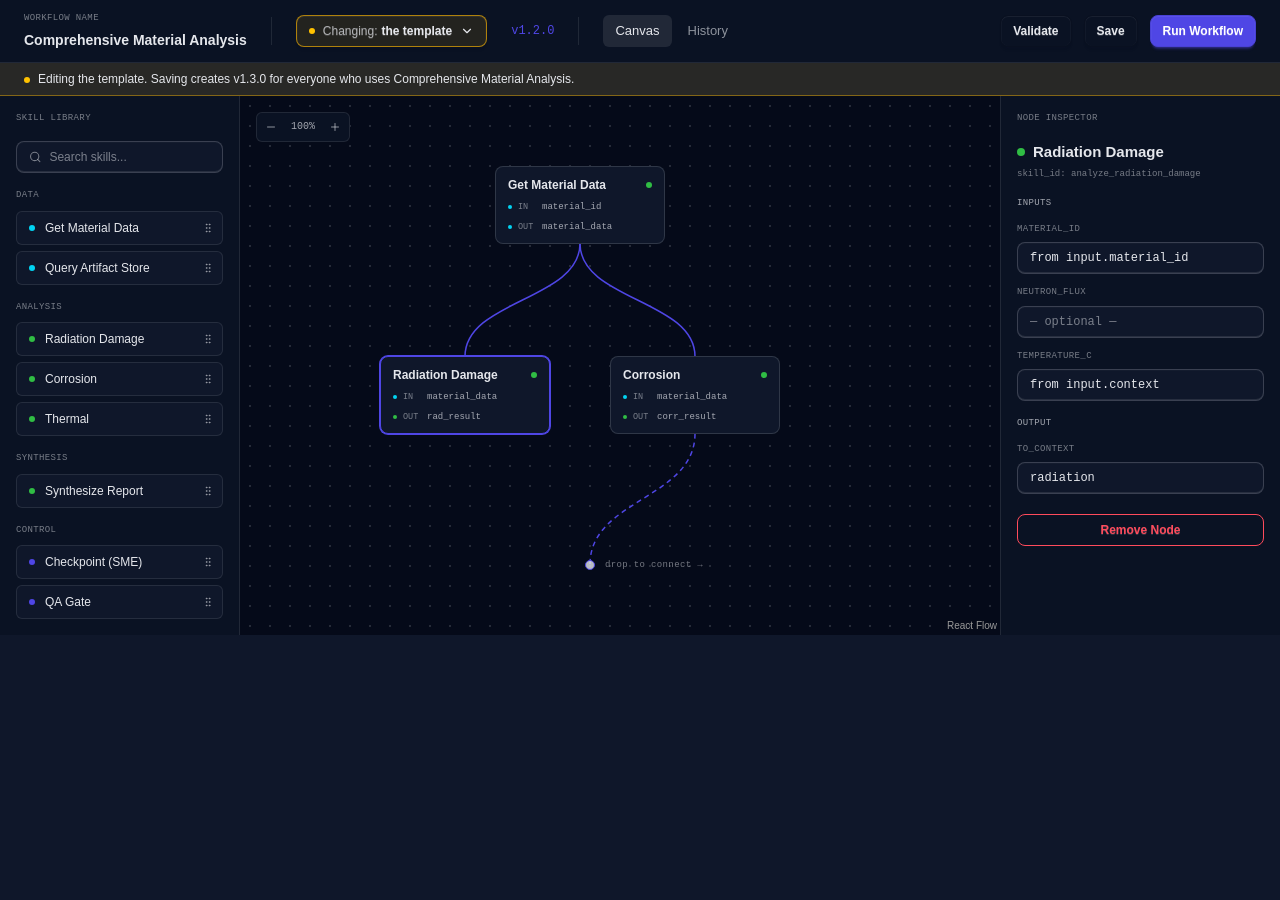
Save template first switches to this run
Click the button "Changing: the template": x=392, y=31 [296,15,487,47]
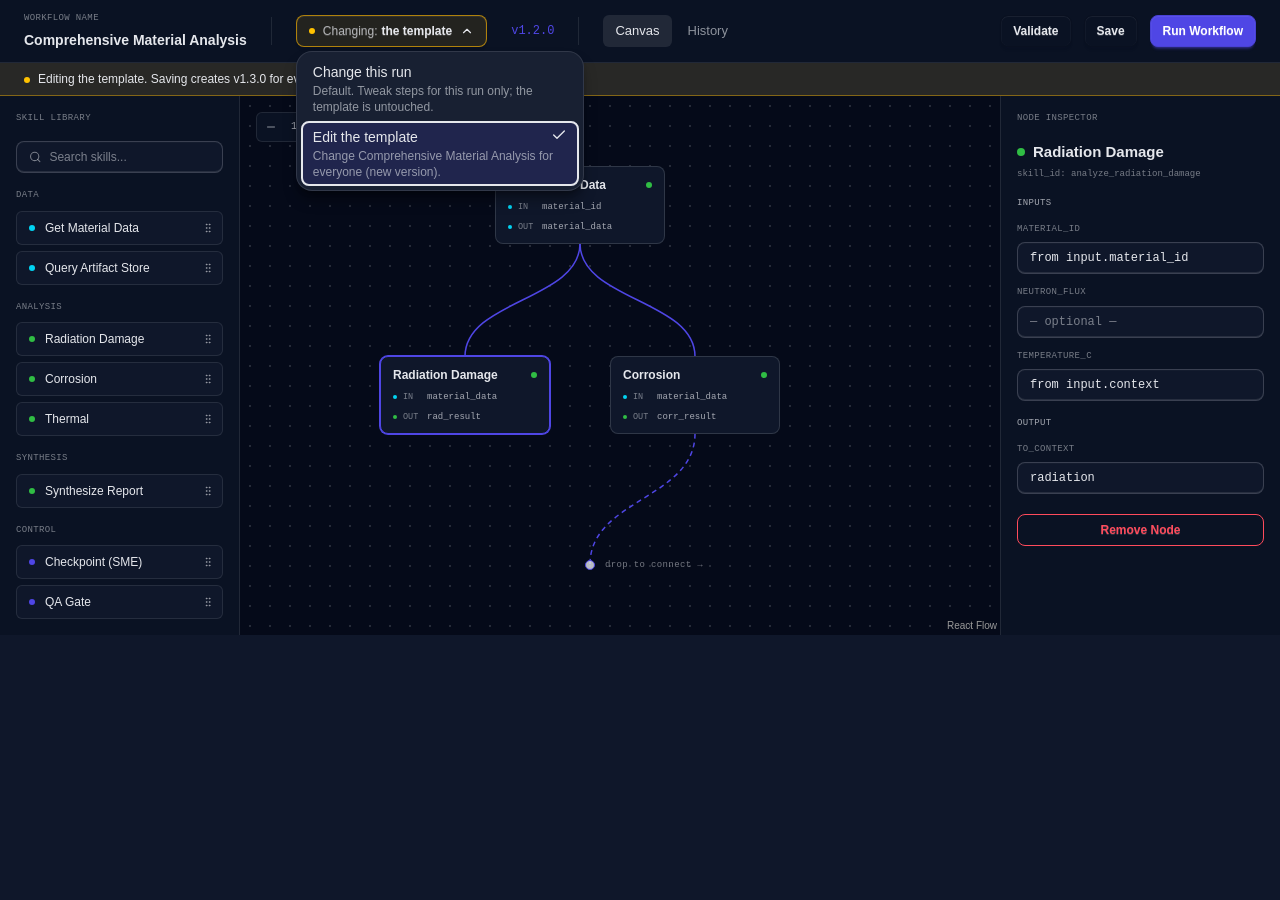
Click the menu item "Change this run": x=440, y=88 [301,56,579,121]
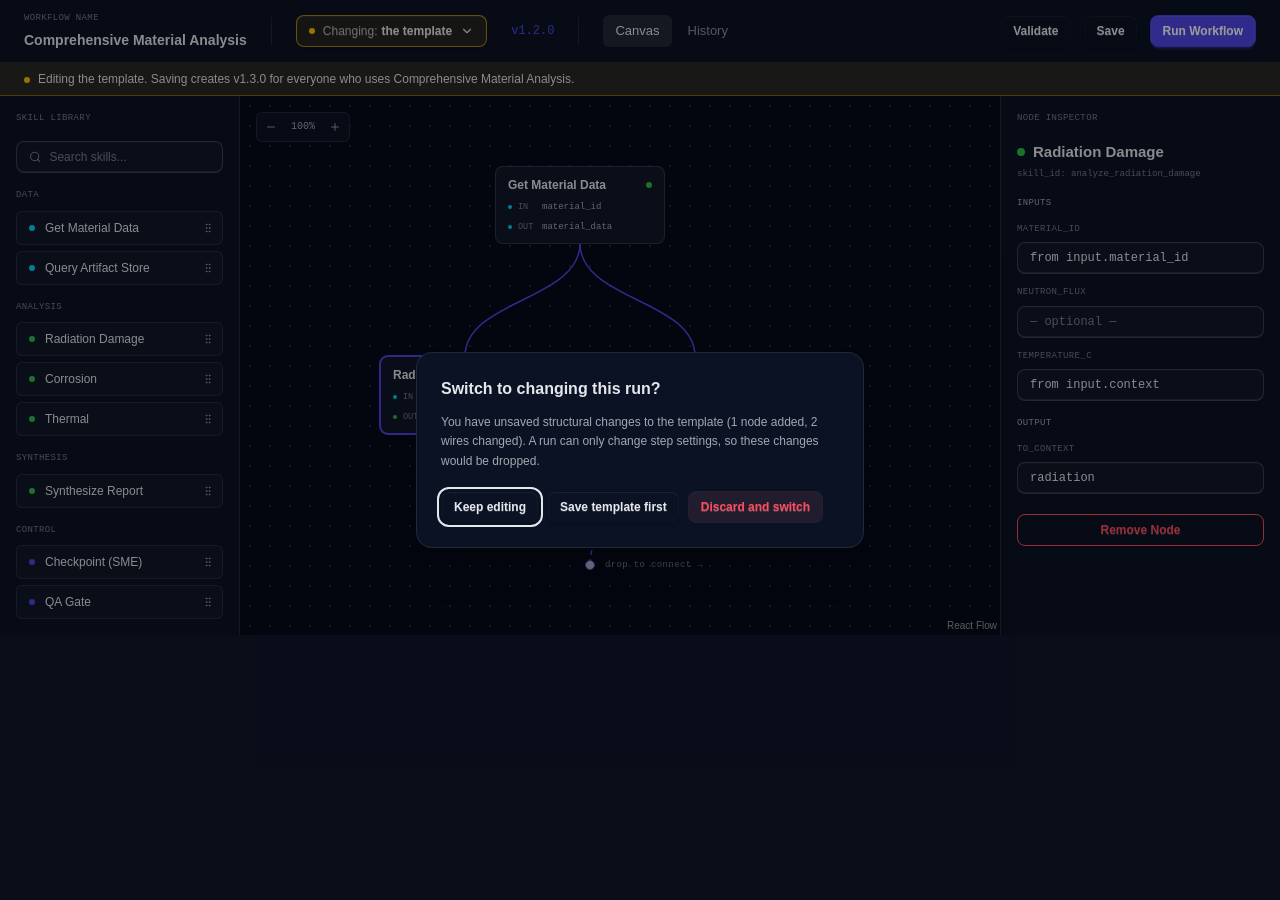
Click the button "Save template first": x=613, y=507 [547,491,680,523]
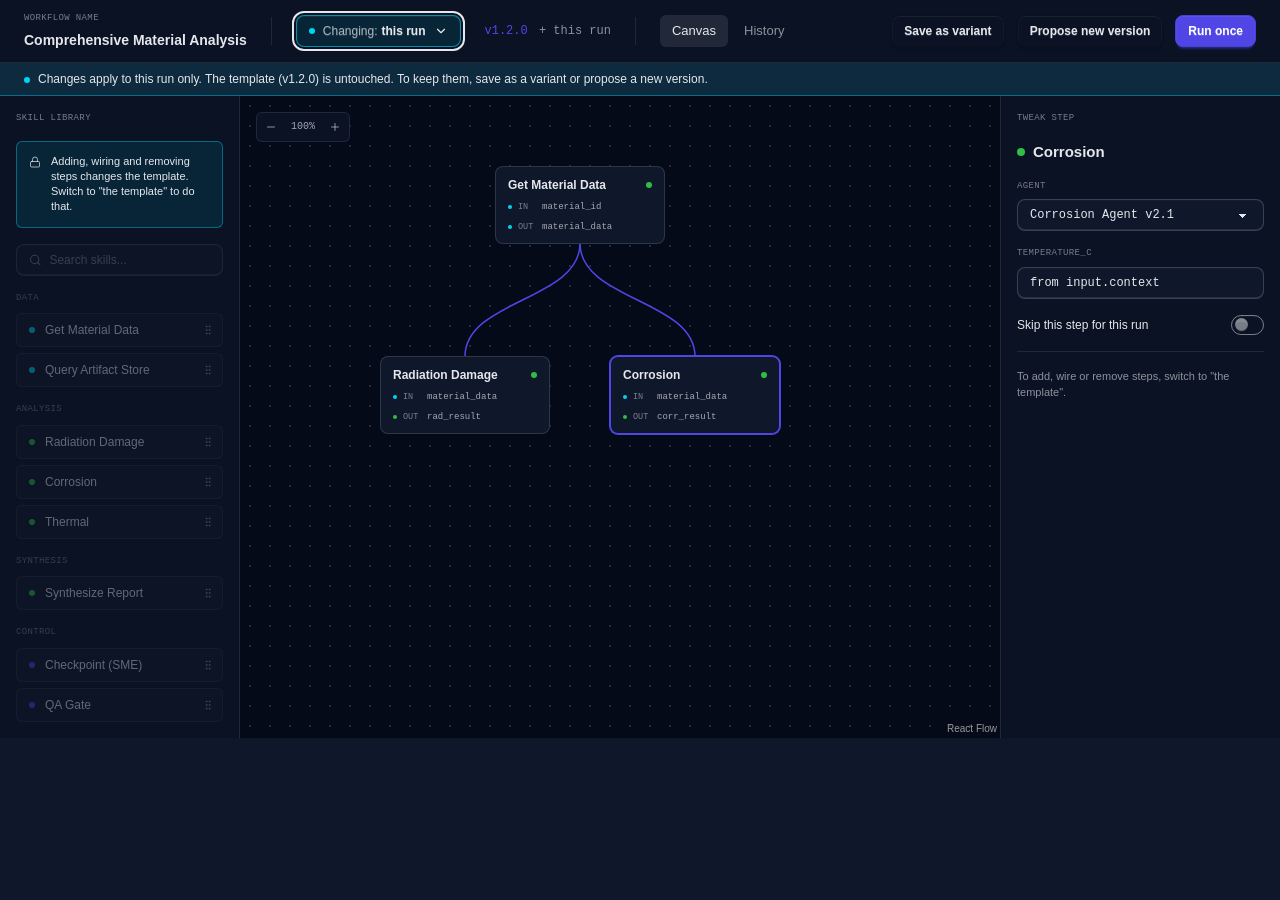
Expected: the dialog is gone
Expected: the button "Changing: this run" is shown, [296,15,460,47]
